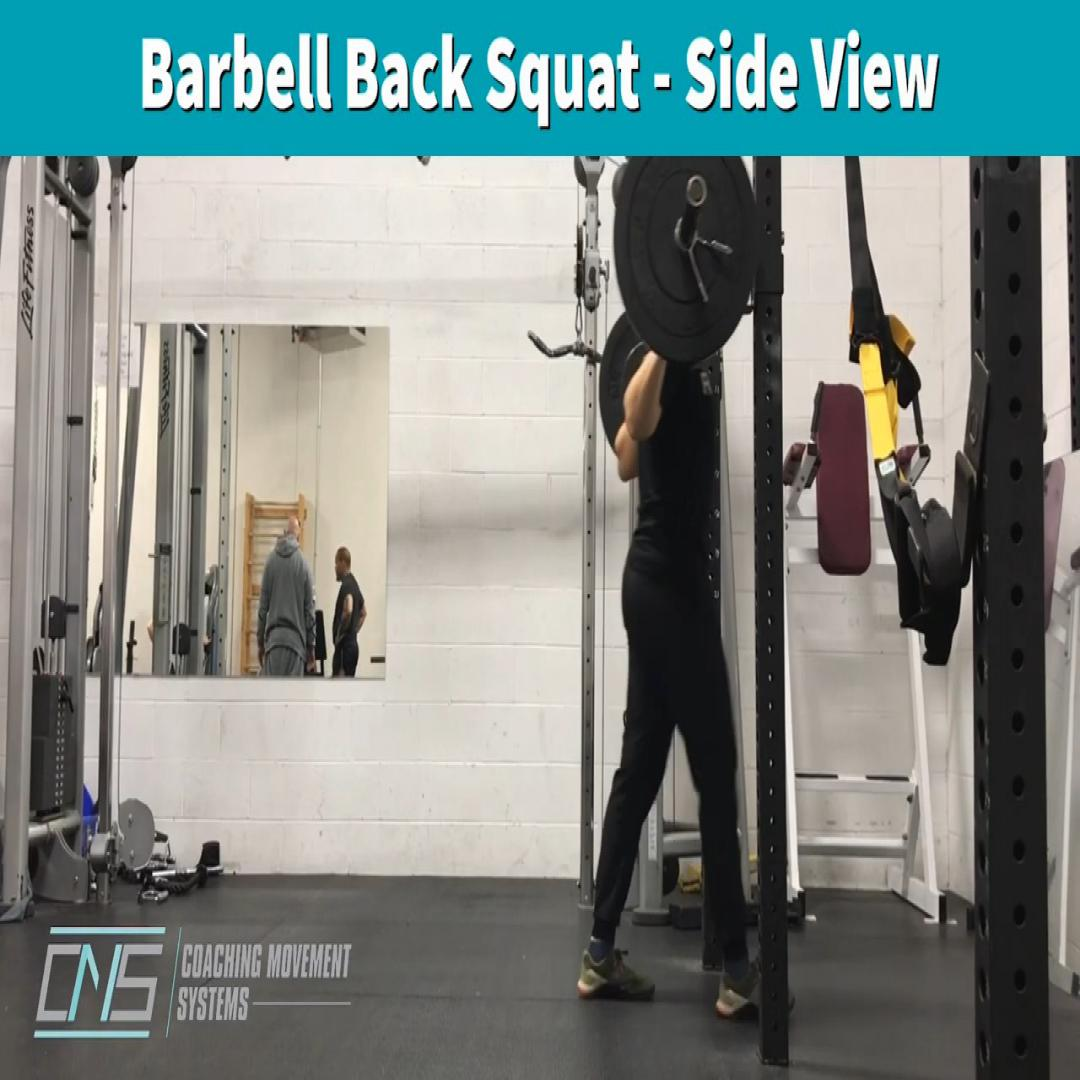Bar: (685, 171, 709, 210)
Barbell: (613, 159, 761, 366)
